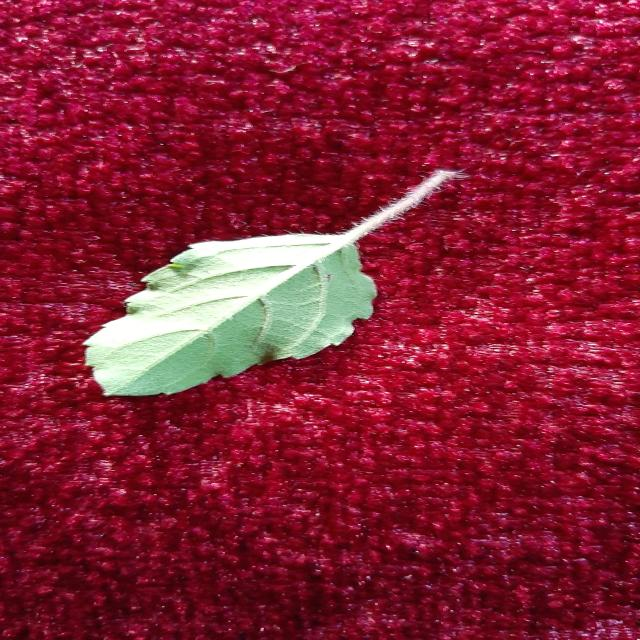tulsi: (84, 170, 458, 395)
